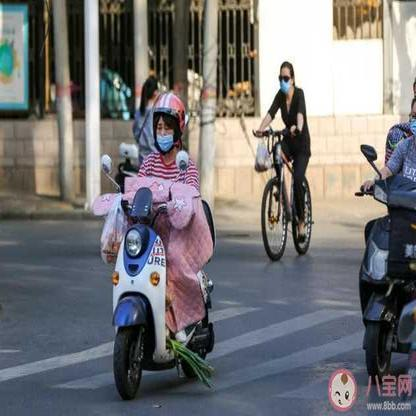target: (90, 91, 219, 397)
